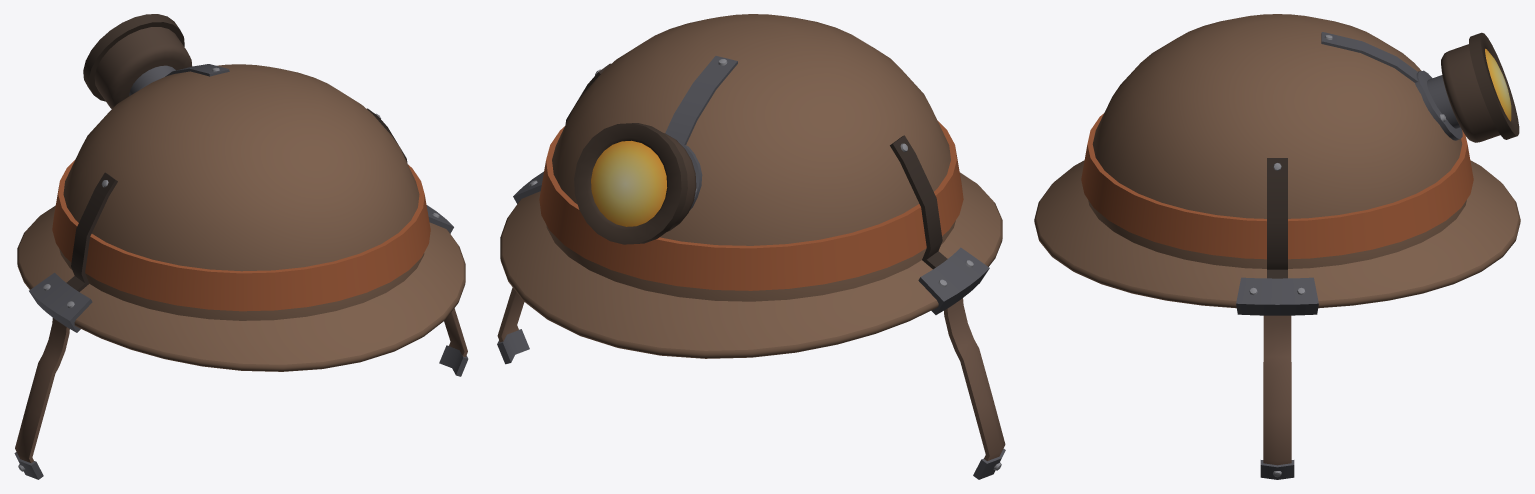
File: Cosmetic_Miner_Helmet.glb
3 renders of one model, left to right at view 1: azimuth 30°, elevation 25°; view 2: azimuth 150°, elevation 25°; view 3: azimuth 270°, elevation 25°, orthographic. The views are drawn at different scales.
Visible parts, largest first — view 1: Cosmetic_Miner_Helmet; view 2: Cosmetic_Miner_Helmet; view 3: Cosmetic_Miner_Helmet.
Boxes of the visible parts, x1,y1,x2,y2 form: Cosmetic_Miner_Helmet: (14, 14, 468, 479); Cosmetic_Miner_Helmet: (497, 14, 1005, 479); Cosmetic_Miner_Helmet: (1034, 14, 1520, 479).
Size of the model in its own units: 1.27 by 0.9132 by 1.19.
